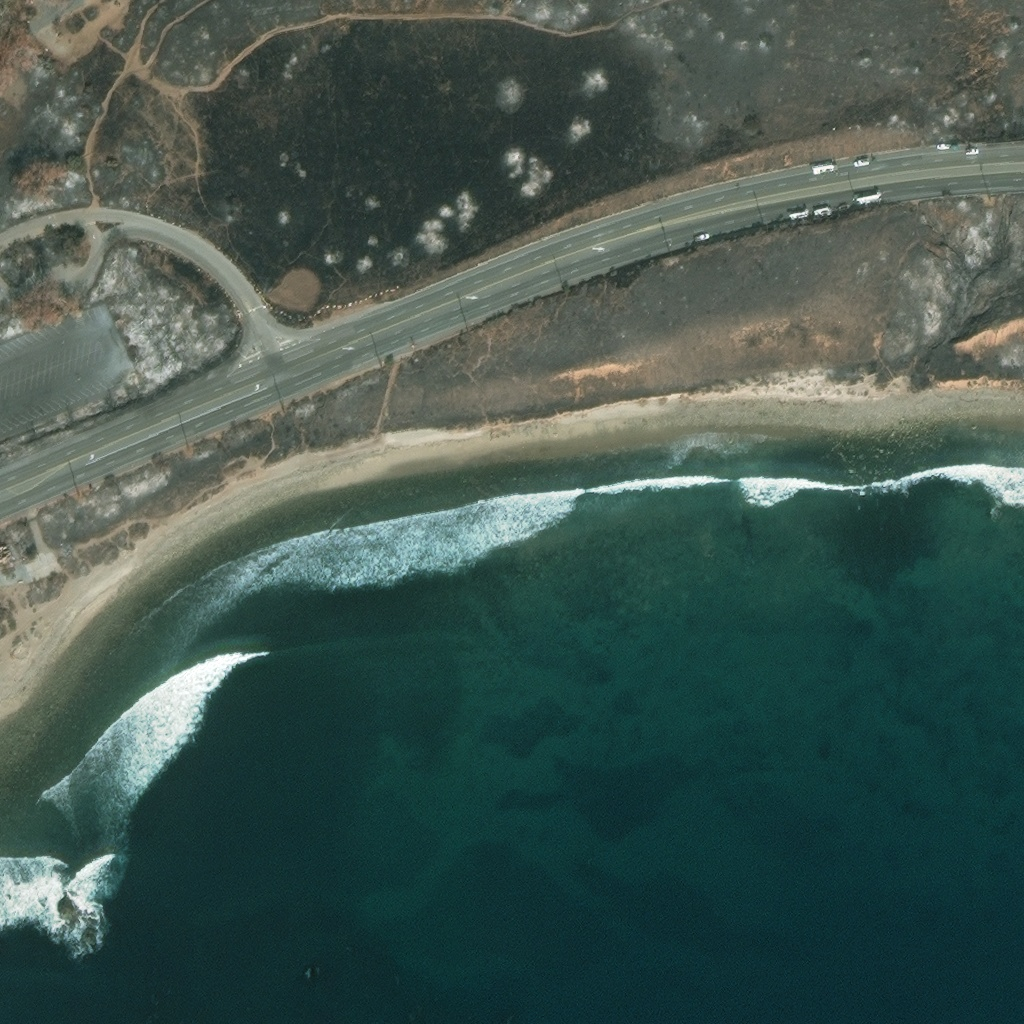3 destroyed: (0, 542, 13, 563)
